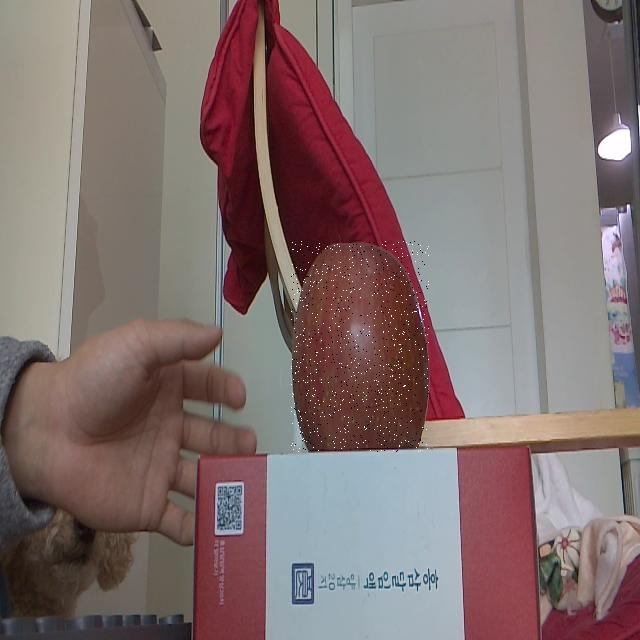apple: (291, 241, 429, 452)
